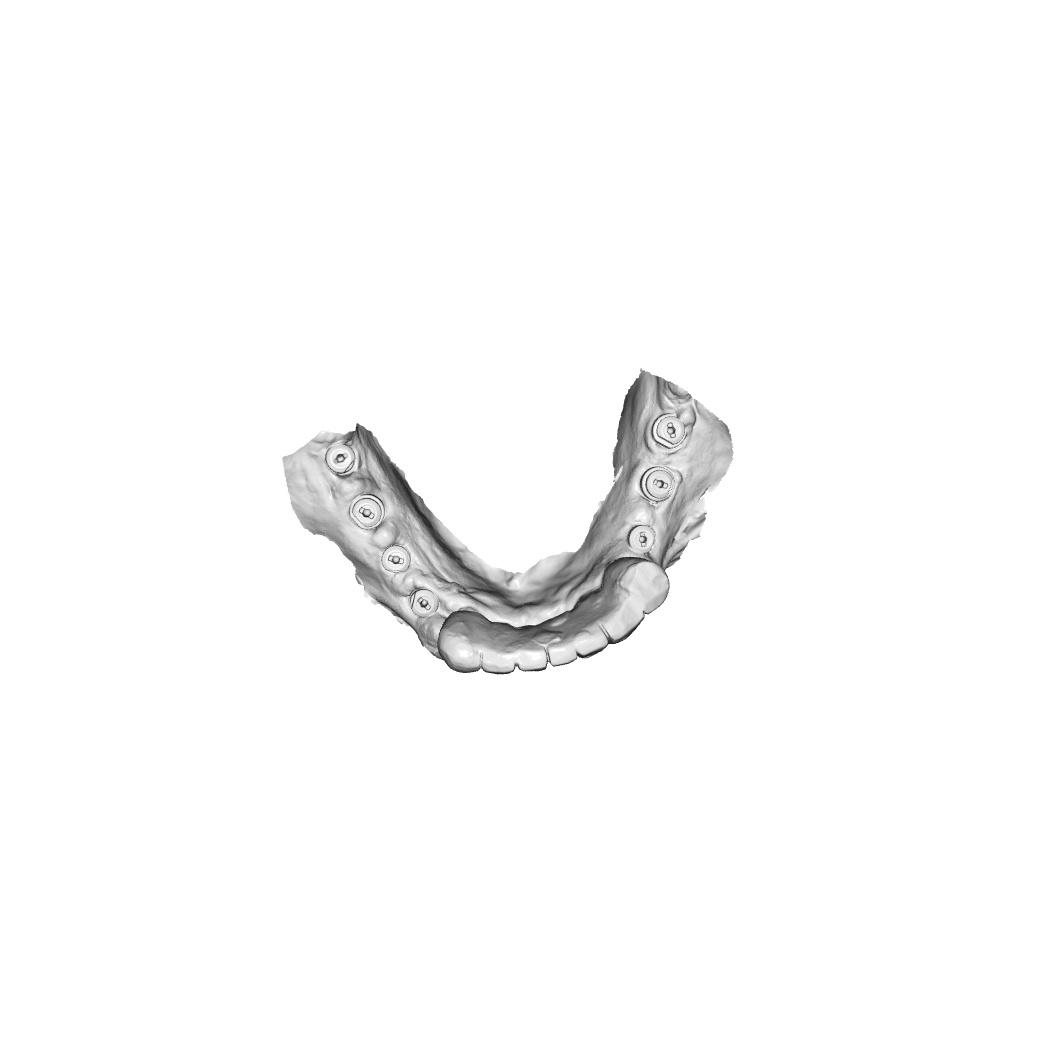canine: (437, 610, 486, 674), (599, 596, 647, 646)
implant_minus: (348, 492, 386, 531), (639, 465, 676, 504), (651, 412, 688, 450), (324, 443, 357, 477), (380, 543, 412, 575), (409, 587, 441, 618), (627, 524, 656, 553)
incisor: (481, 620, 515, 677), (542, 621, 580, 668), (572, 617, 609, 659), (516, 627, 548, 674)
premolar: (611, 556, 671, 614)
